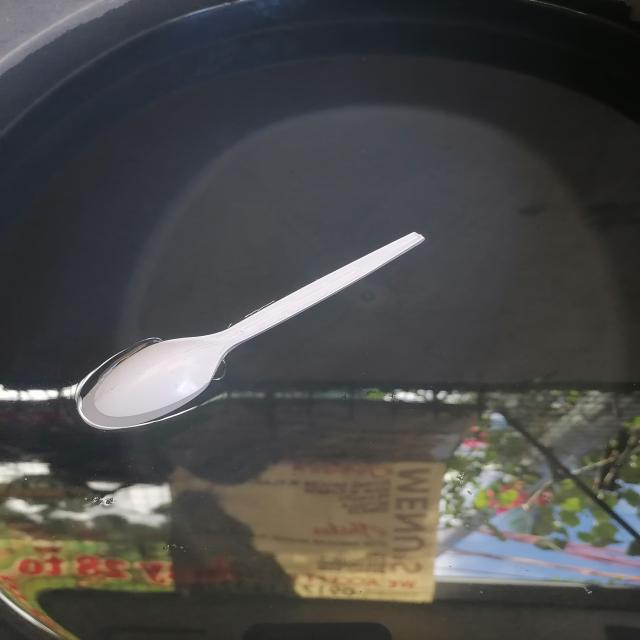Plastic Spoon: (75, 232, 425, 430)
